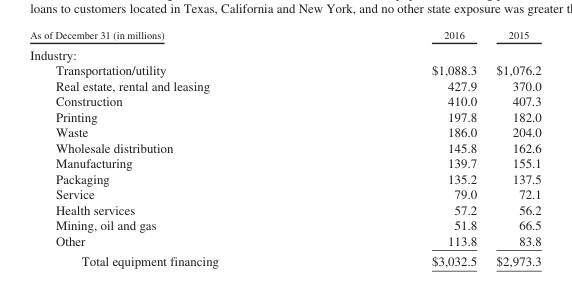table: (29, 28, 540, 268)
table column: (29, 28, 324, 268), (324, 28, 485, 268), (485, 28, 540, 268)
table column header: (29, 28, 540, 43)
table projected row header: (29, 43, 540, 61)
table row: (29, 43, 540, 61), (29, 232, 540, 250), (29, 250, 540, 268), (29, 61, 540, 77), (29, 92, 540, 108), (29, 123, 540, 139), (29, 154, 540, 170), (29, 185, 540, 201), (29, 216, 540, 232), (29, 28, 540, 43), (29, 77, 540, 92), (29, 108, 540, 123), (29, 139, 540, 154), (29, 170, 540, 185), (29, 201, 540, 216)
